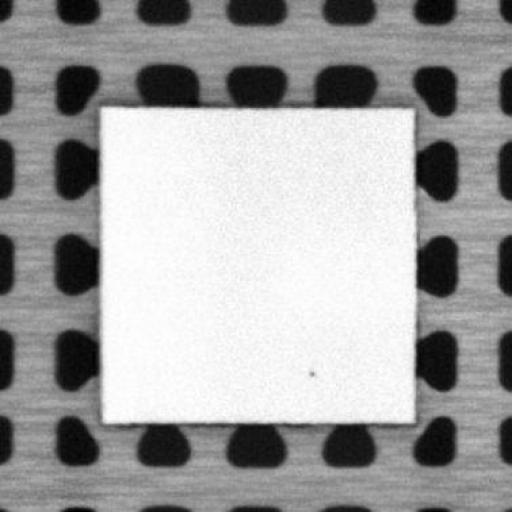DIE_INK: (305, 366, 317, 378)
